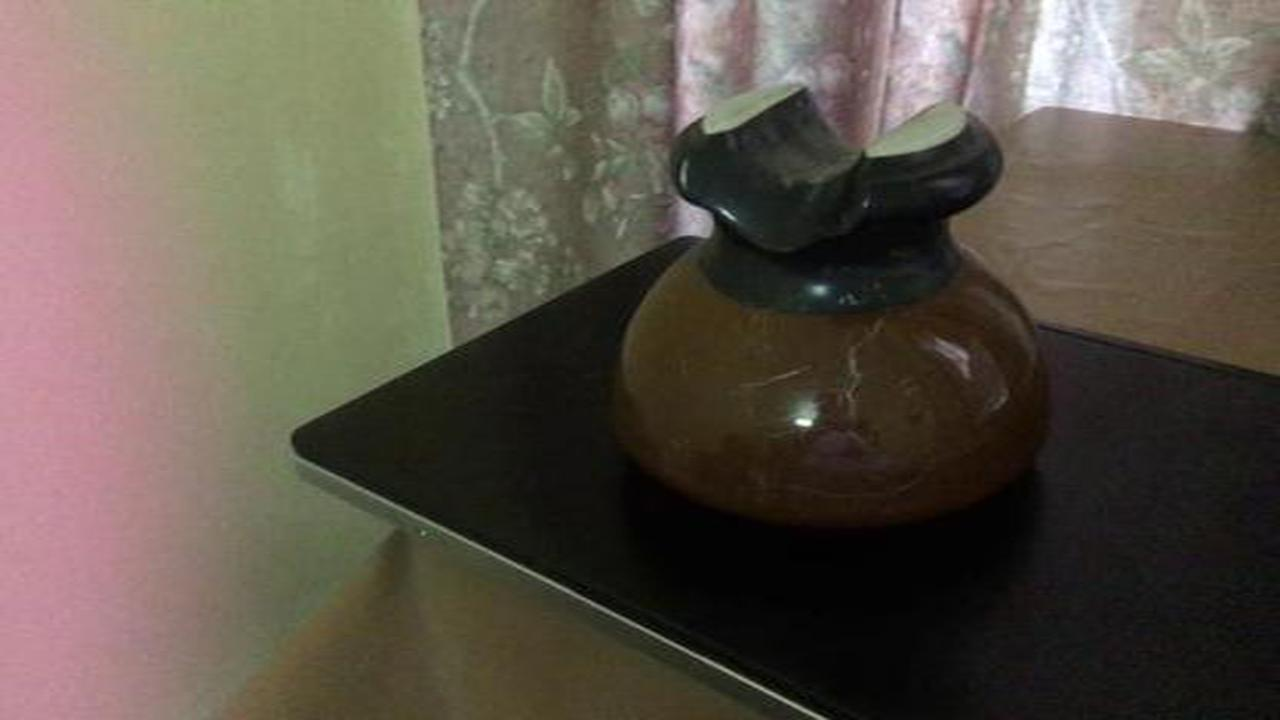insulator_pin: (585, 71, 1084, 549)
